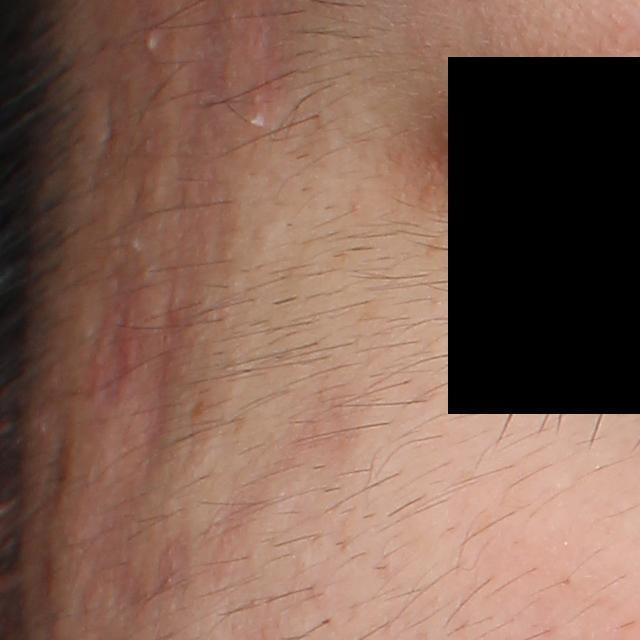pustule: (139, 26, 168, 58)
